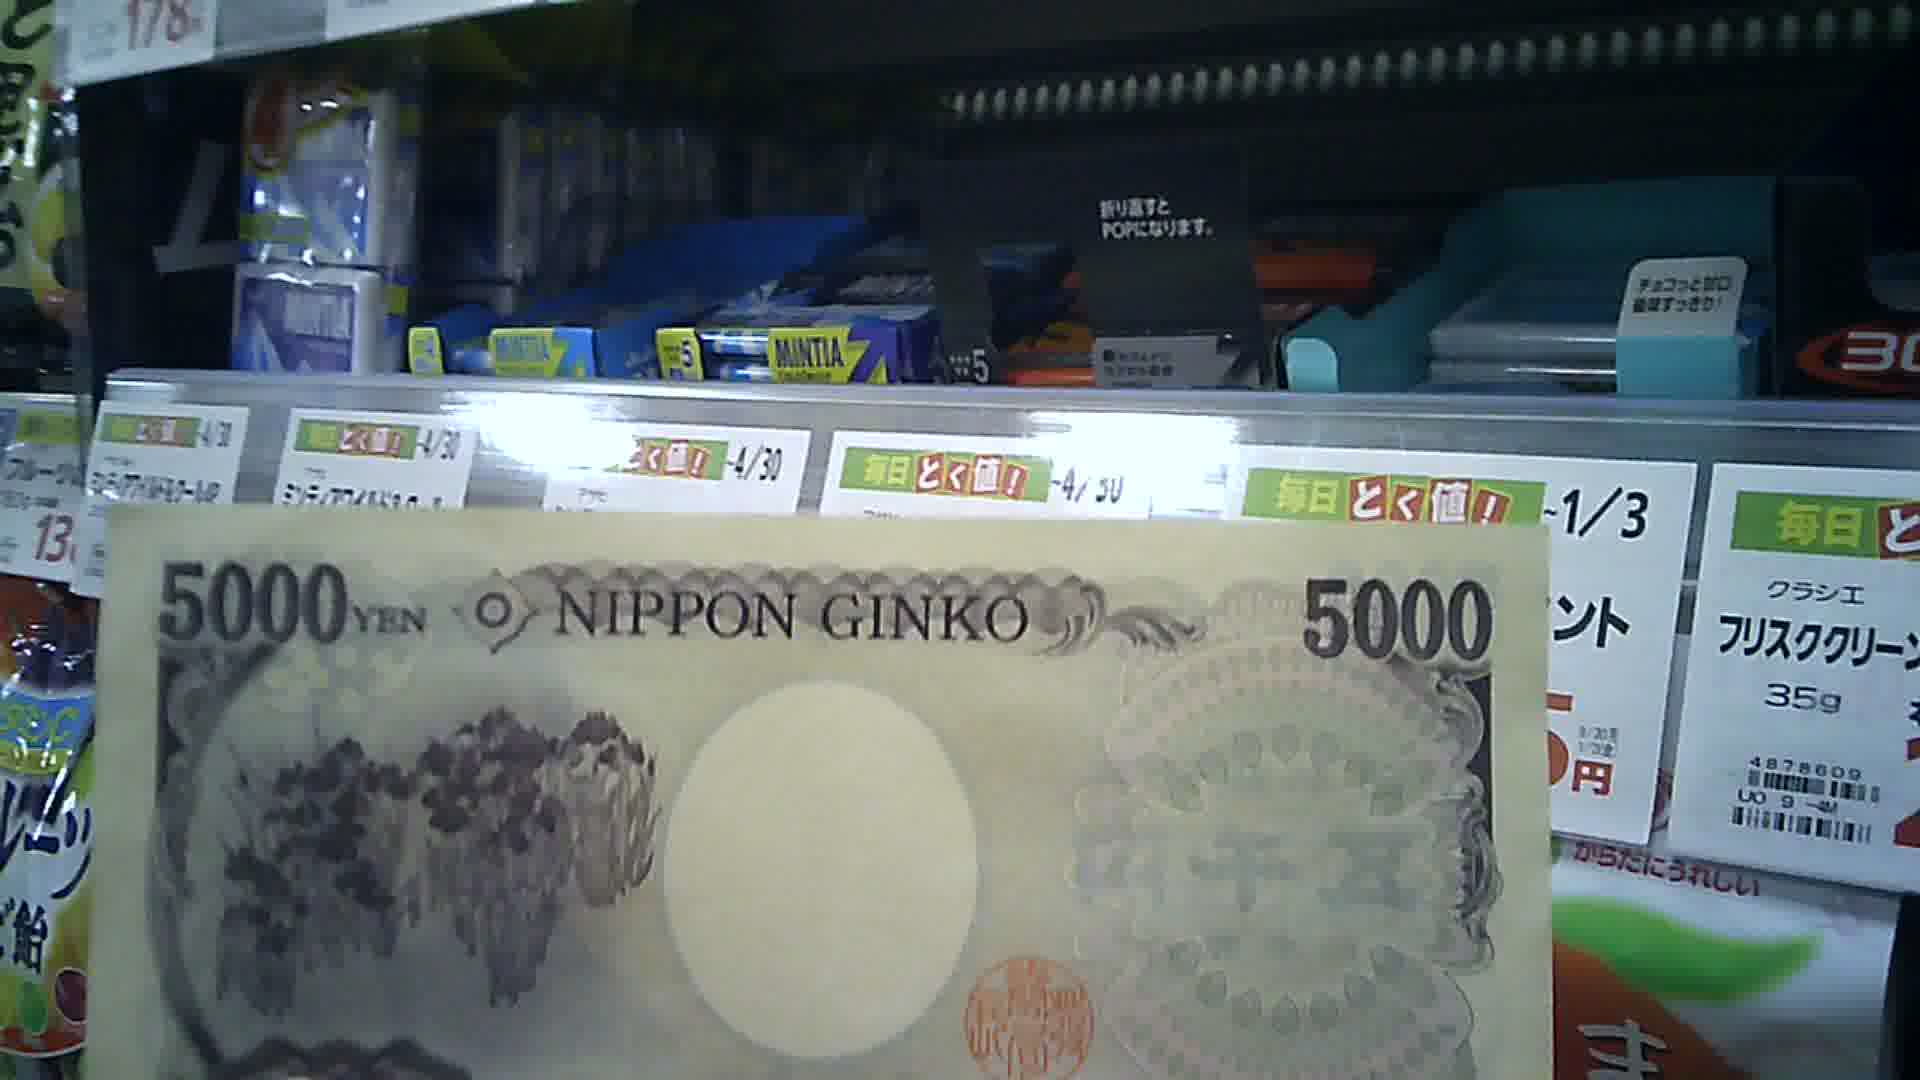5,000 Yen: (105, 473, 1604, 1079)
